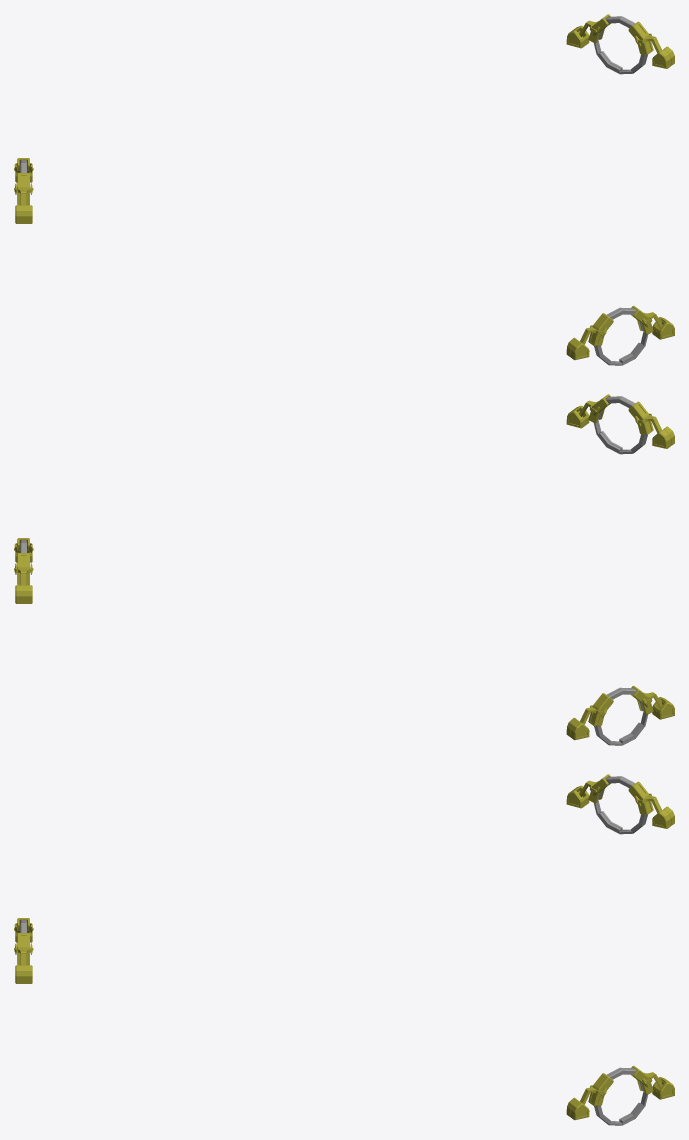
Rendered from MAIN_PORTALS.glb.
3 renders of one model, top to bottom at view 1: azimuth 30°, elevation 25°; view 2: azimuth 150°, elevation 25°; view 3: azimuth 270°, elevation 25°, orthographic.
Visible parts, largest first — view 1: MAIN_PORTALS; view 2: MAIN_PORTALS; view 3: MAIN_PORTALS.
Part boxes in pixels (<box>): MAIN_PORTALS: <box>14,14,674,365</box>; MAIN_PORTALS: <box>14,394,674,745</box>; MAIN_PORTALS: <box>14,774,674,1125</box>.
Size of the model in its own units: 16.66 by 1.36 by 14.46.
